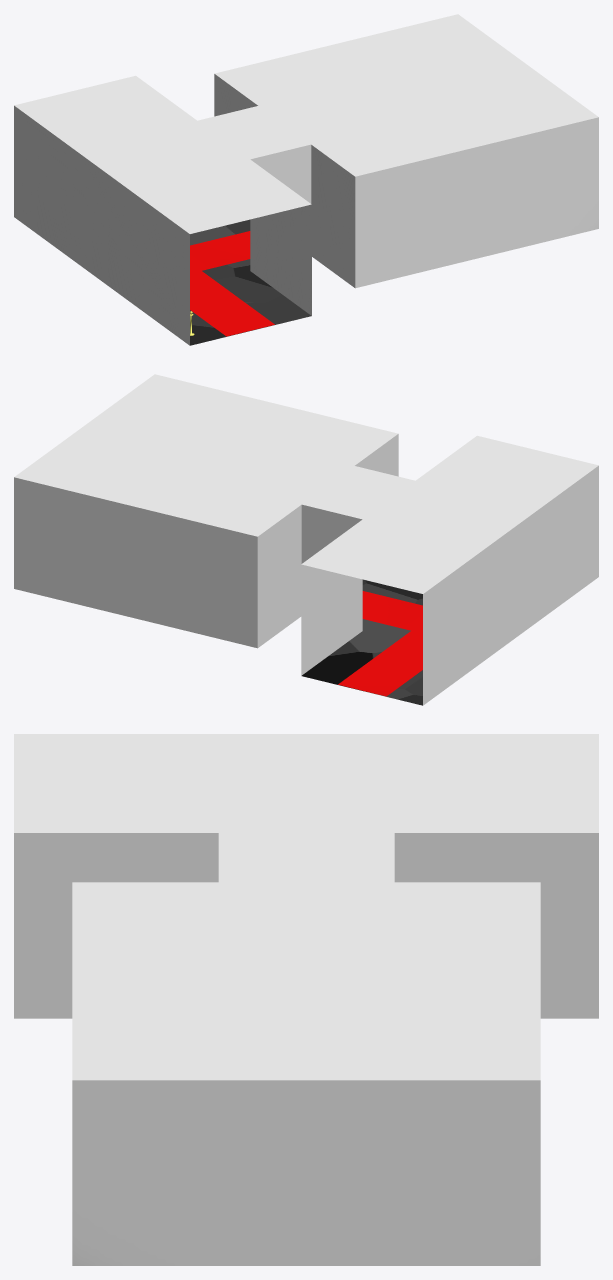
The model's file is stage2.fbx.
3 renders of one model, top to bottom at view 1: azimuth 30°, elevation 25°; view 2: azimuth 150°, elevation 25°; view 3: azimuth 270°, elevation 25°, orthographic. The views are drawn at different scales.
Parts seen in each view (by area): view 1: stage2; view 2: stage2; view 3: stage2.
Part boxes in pixels (<box>): stage2: <box>14,14,598,345</box>; stage2: <box>14,374,598,705</box>; stage2: <box>14,734,598,1265</box>.
Bounding box in the file's own units: 1400 × 350 × 1000.
